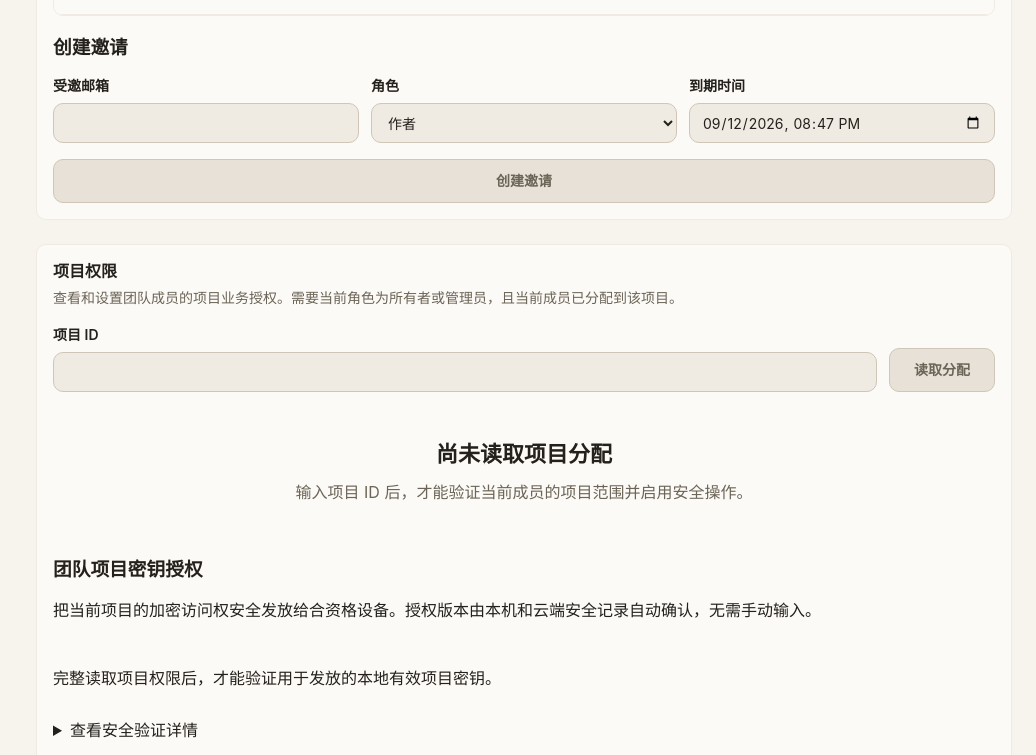
Test: StudioTeamPage › auto-resolves the active local key version and publishes every eligible device
(page scrolled)
Type "019f9f4a-b3c7-7350-9226-000000000210" into the field labelled "项目 ID" at (465, 372), box [66,353,864,391]
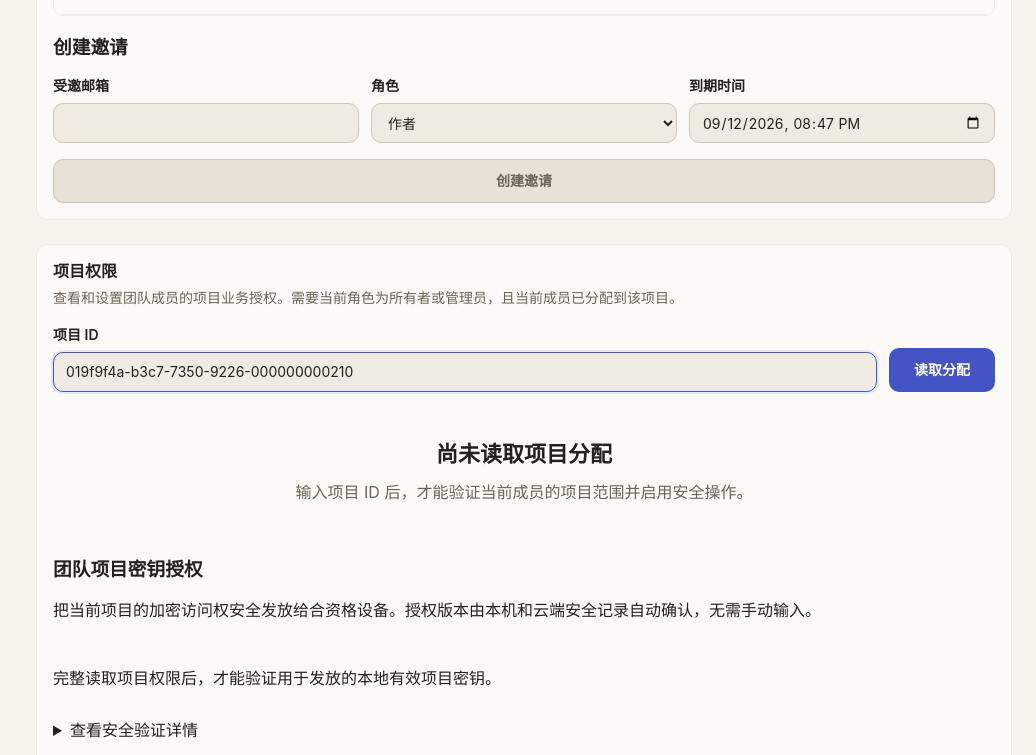
Result: the button "读取分配" is enabled
Click the button "读取分配" at (942, 370), box [889,348,995,392]
(page scrolled)
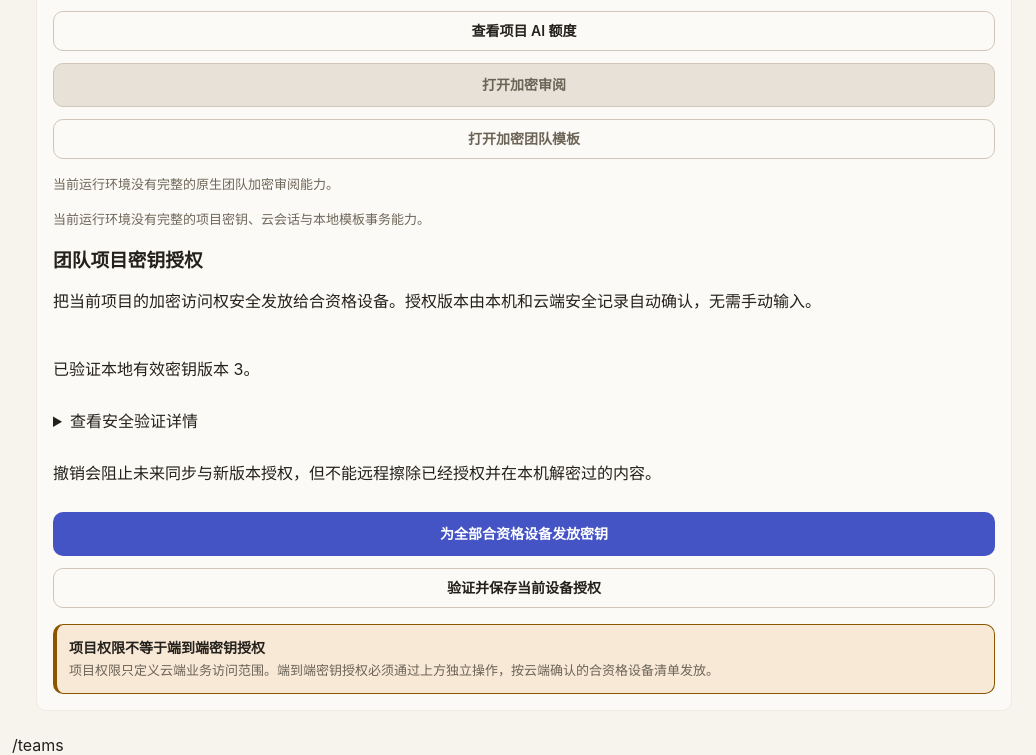
Result: the text "已验证本地有效密钥版本 3。" is shown at [53,359,259,379]
Click the button "为全部合资格设备发放密钥" at (524, 534), box [53,512,995,556]
(page scrolled)
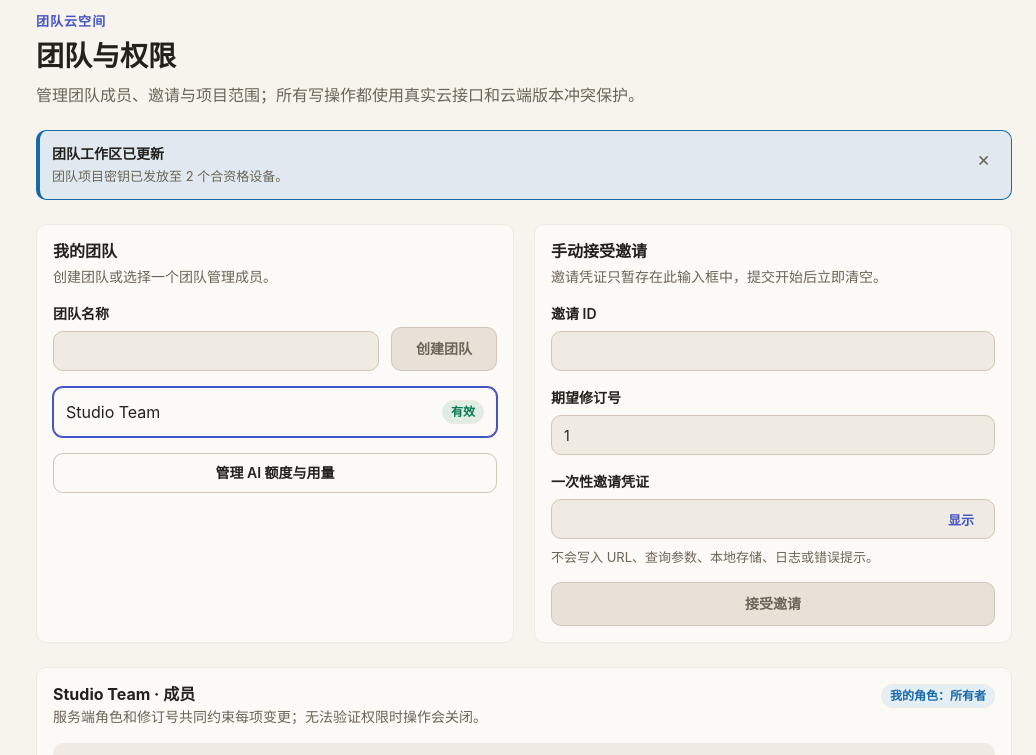
Result: the text "团队项目密钥已发放至 2 个合资格设备。" is shown at [52,168,288,184]
